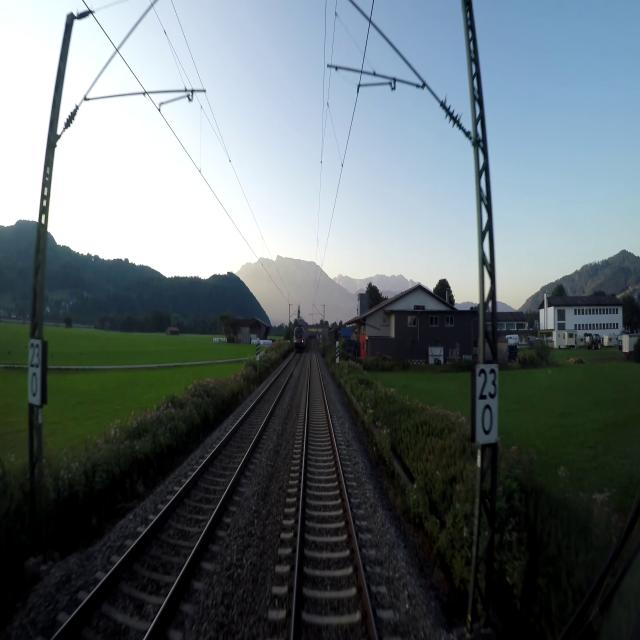rail-track: (57, 353, 298, 639), (295, 344, 374, 639)
